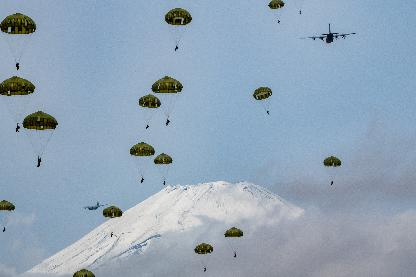Be200: (300, 23, 358, 43), (78, 200, 108, 209)
